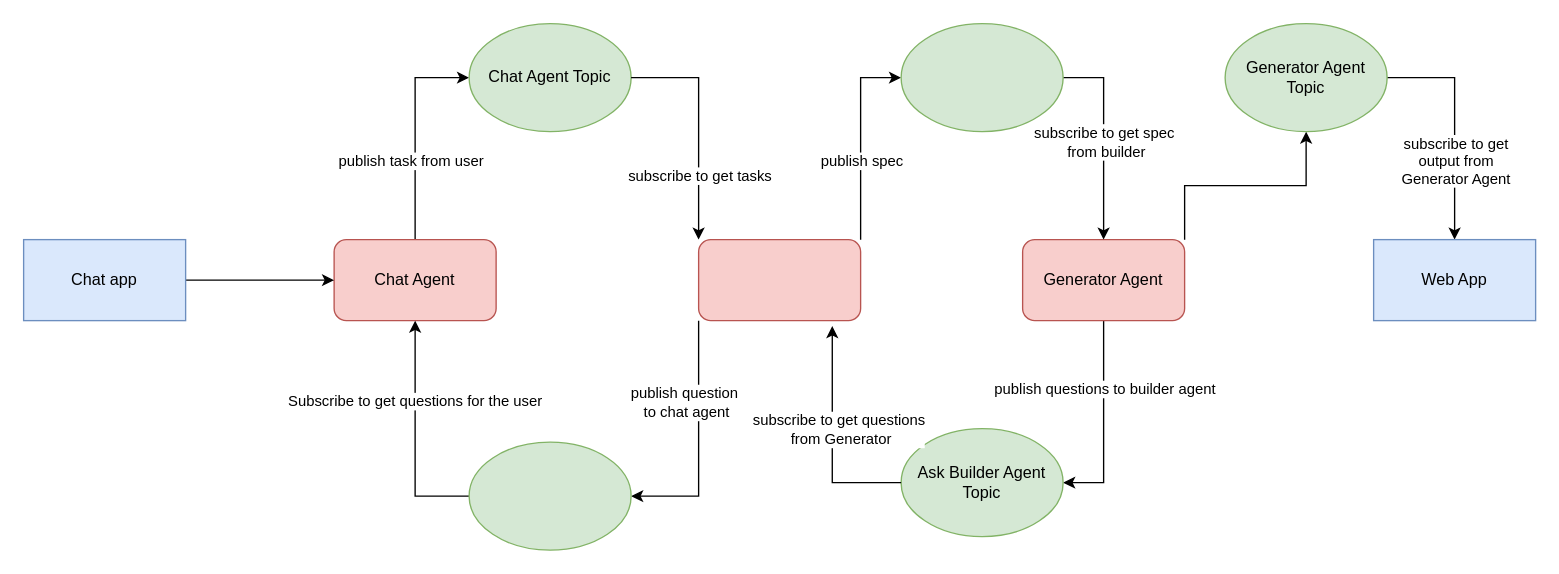
This 1559x574 diagram has some shape labels left out. Here are the shapes that lost their labels. From the top down, the box of each, then its label:
(900, 22, 1063, 132): Builder Agent Topic
(697, 238, 861, 321): Builder Agent
(468, 441, 631, 550): Ask Chat Agent Topic
